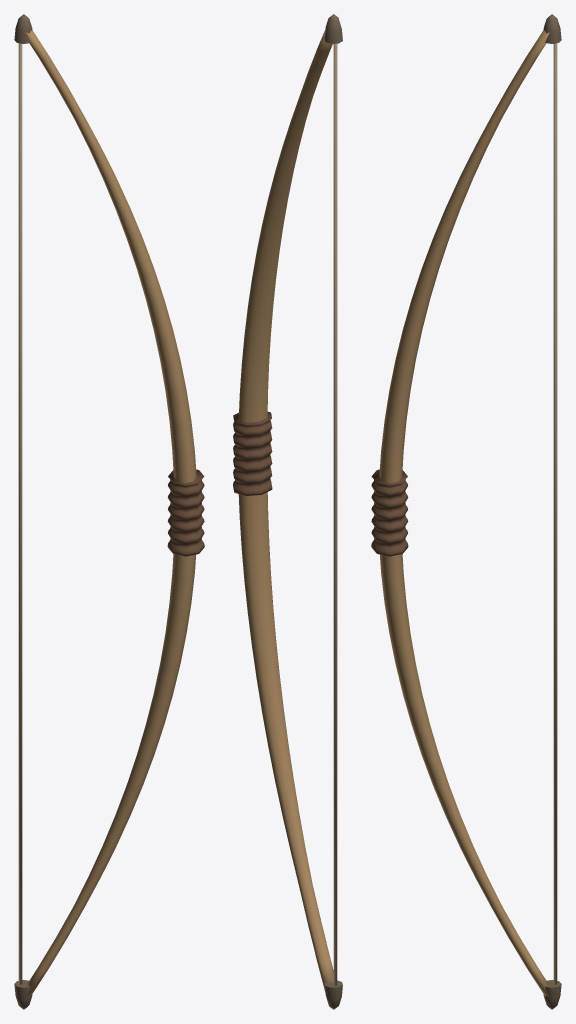
The model's file is longbow.glb.
3 renders of one model, left to right at view 1: azimuth 90°, elevation 25°; view 2: azimuth 210°, elevation 25°; view 3: azimuth 270°, elevation 25°, orthographic.
Visible parts, largest first — view 1: longbow; view 2: longbow; view 3: longbow.
Part boxes in pixels (left/top/right/bottom): longbow: left=14, top=14, right=204, bottom=1009; longbow: left=233, top=14, right=342, bottom=1009; longbow: left=371, top=14, right=561, bottom=1009.
Bounding box in the file's own units: 0.1637 × 4.2 × 0.7268.
